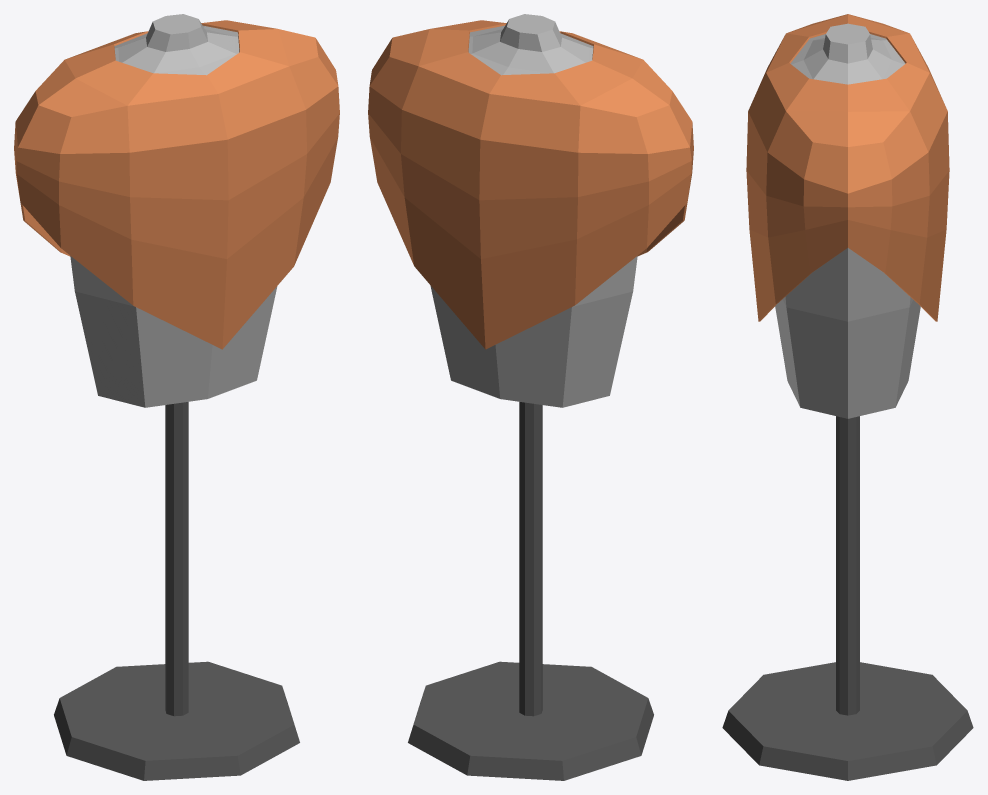
The model's file is Maniqui01.fbx.
3 renders of one model, left to right at view 1: azimuth 30°, elevation 25°; view 2: azimuth 150°, elevation 25°; view 3: azimuth 270°, elevation 25°, orthographic.
Visible parts, largest first — view 1: Maniqui_Torso; view 2: Maniqui_Torso; view 3: Maniqui_Torso.
Boxes of the visible parts, x1,y1,x2,y2 form: Maniqui_Torso: (14,14,339,780); Maniqui_Torso: (368,14,693,780); Maniqui_Torso: (722,14,973,780).
Bounding box in the file's own units: 47.77 × 100 × 32.81.
